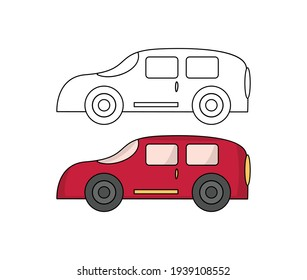car: (54, 47, 258, 124), (56, 133, 254, 212)
